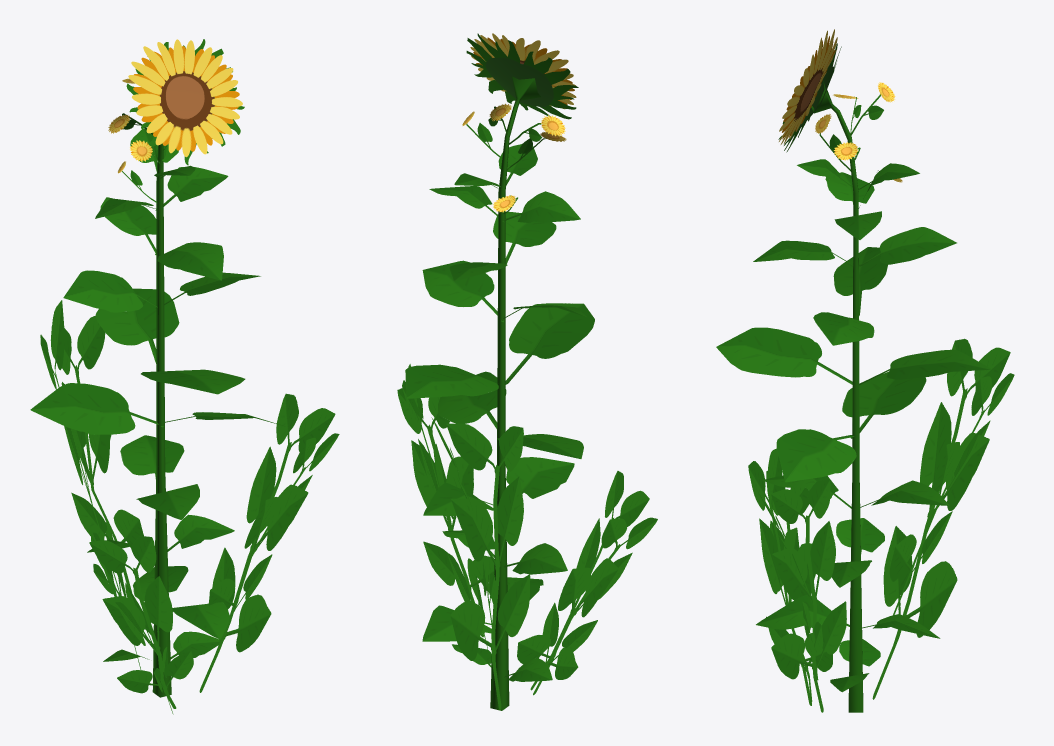
File: PT_Sunflower_01.fbx
3 renders of one model, left to right at view 1: azimuth 30°, elevation 25°; view 2: azimuth 150°, elevation 25°; view 3: azimuth 270°, elevation 25°, orthographic.
Visible parts, largest first — view 1: PT_Sunflower_01_LOD0; view 2: PT_Sunflower_01_LOD0; view 3: PT_Sunflower_01_LOD0.
Part boxes in pixels (x1=…): PT_Sunflower_01_LOD0: x1=30, y1=39, x2=339, y2=714; PT_Sunflower_01_LOD0: x1=397, y1=33, x2=657, y2=710; PT_Sunflower_01_LOD0: x1=716, y1=29, x2=1014, y2=712.
Size of what is drawn, in the model's own units: 117 by 268 by 119.
